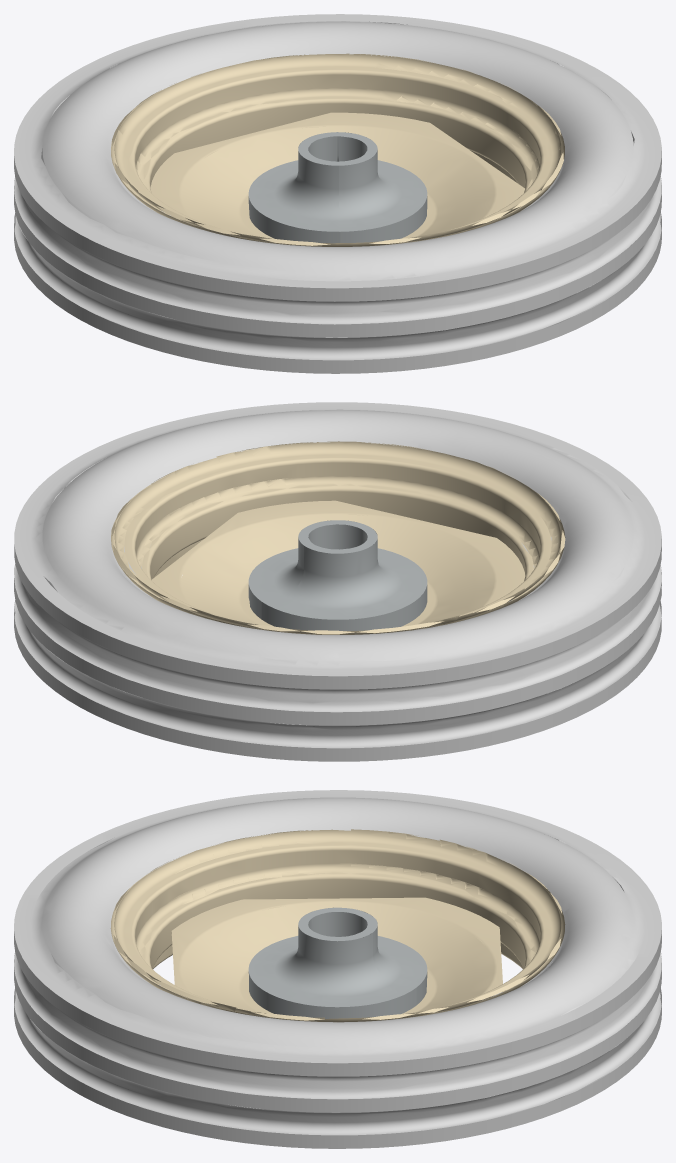
The model's file is front_right_wheel_visual.obj.
The picture shows the model from 3 angles, top to bottom: view 1: azimuth 30°, elevation 25°; view 2: azimuth 150°, elevation 25°; view 3: azimuth 270°, elevation 25°; orthographic projection.
Parts seen in each view (by area): view 1: front_right_wheel_visual; view 2: front_right_wheel_visual; view 3: front_right_wheel_visual.
Boxes of the visible parts, <box> form: front_right_wheel_visual: <box>14,14,661,373</box>; front_right_wheel_visual: <box>14,402,661,761</box>; front_right_wheel_visual: <box>14,790,661,1148</box>.
Size of the model in its own units: 0.805 by 0.1512 by 0.8047.
